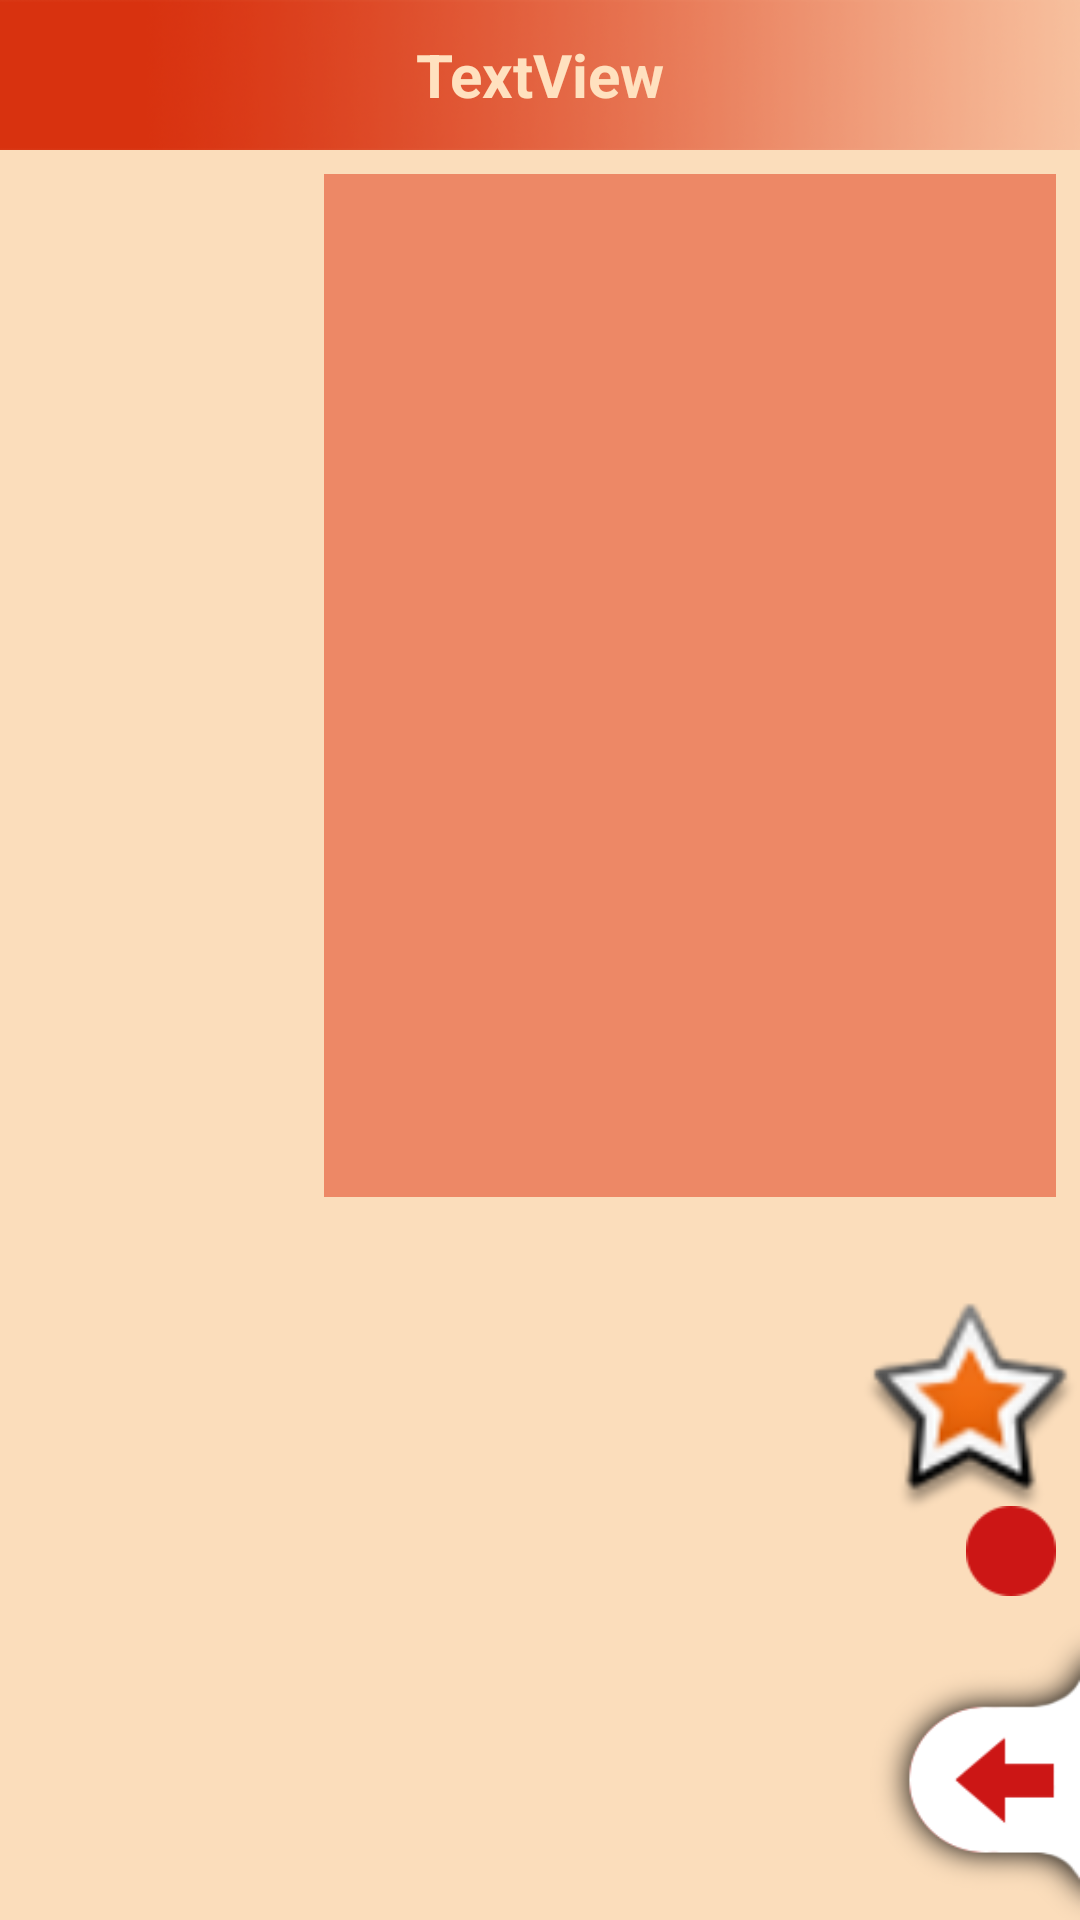

Icon bounding boxes for this 1080 × 1920 phone screenshot, format (x1, y1, x2, y2):
star on: (873, 1304, 1067, 1502)
